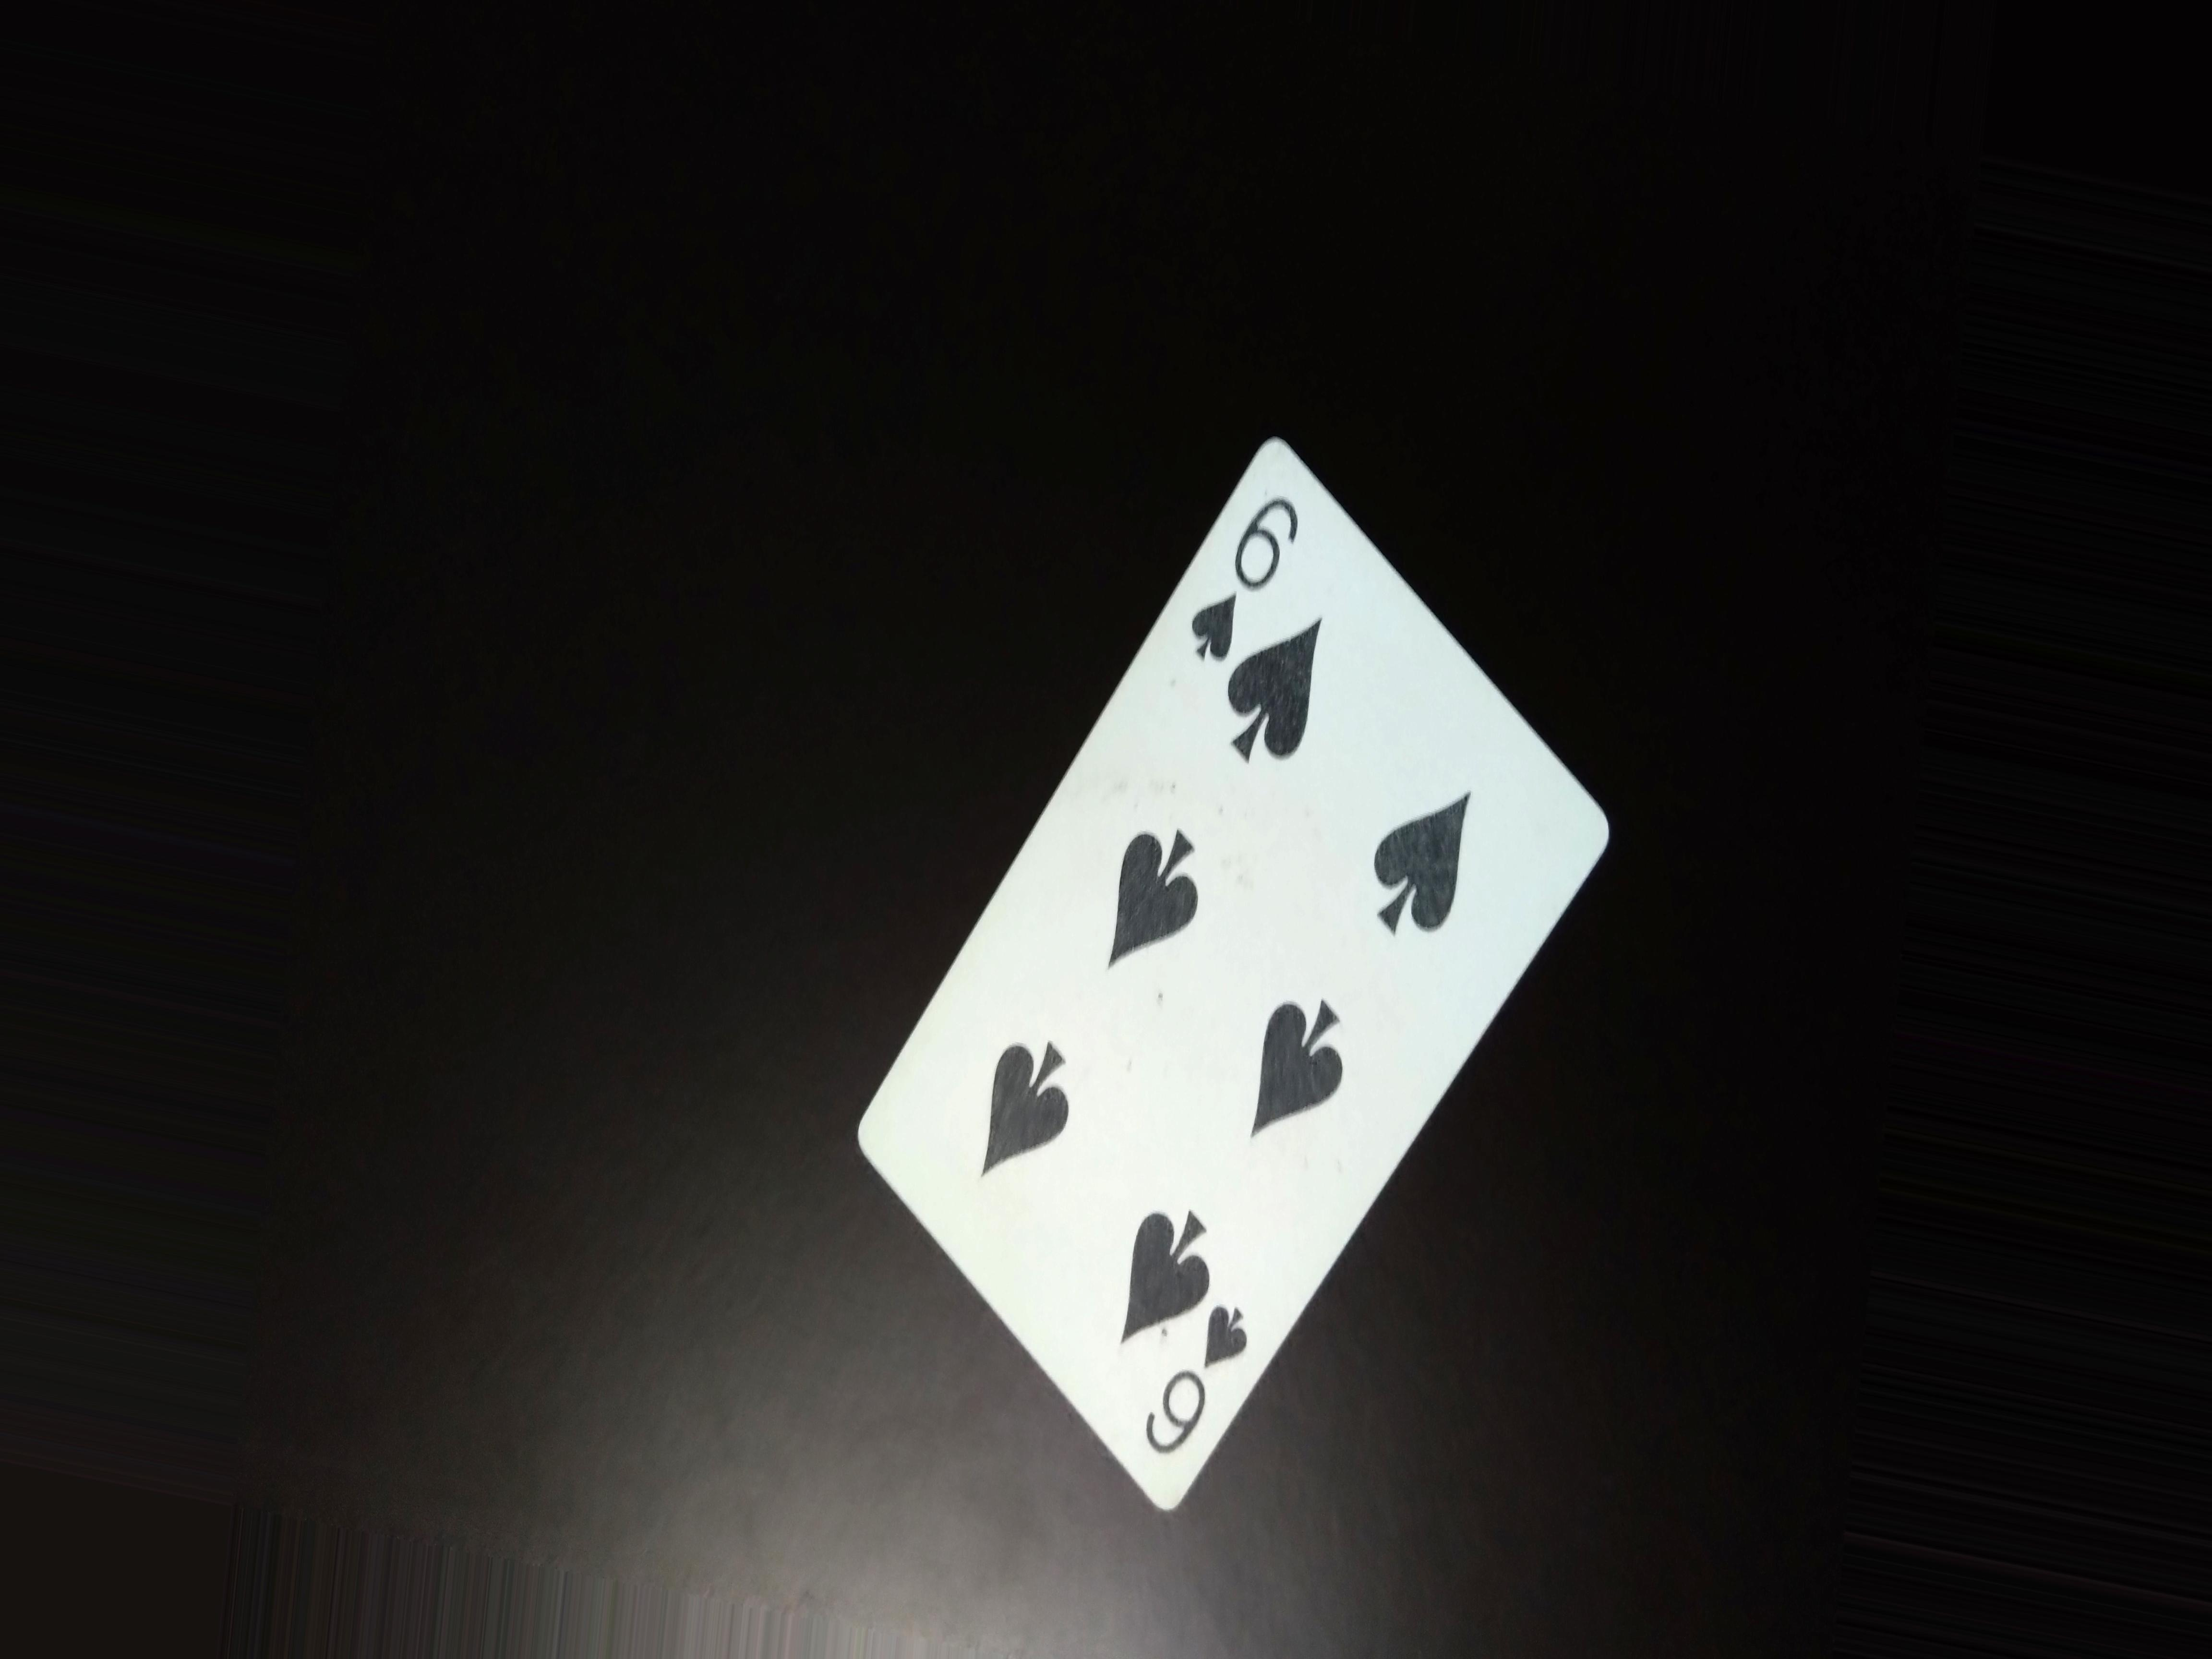6S: (1177, 469, 1315, 669)
